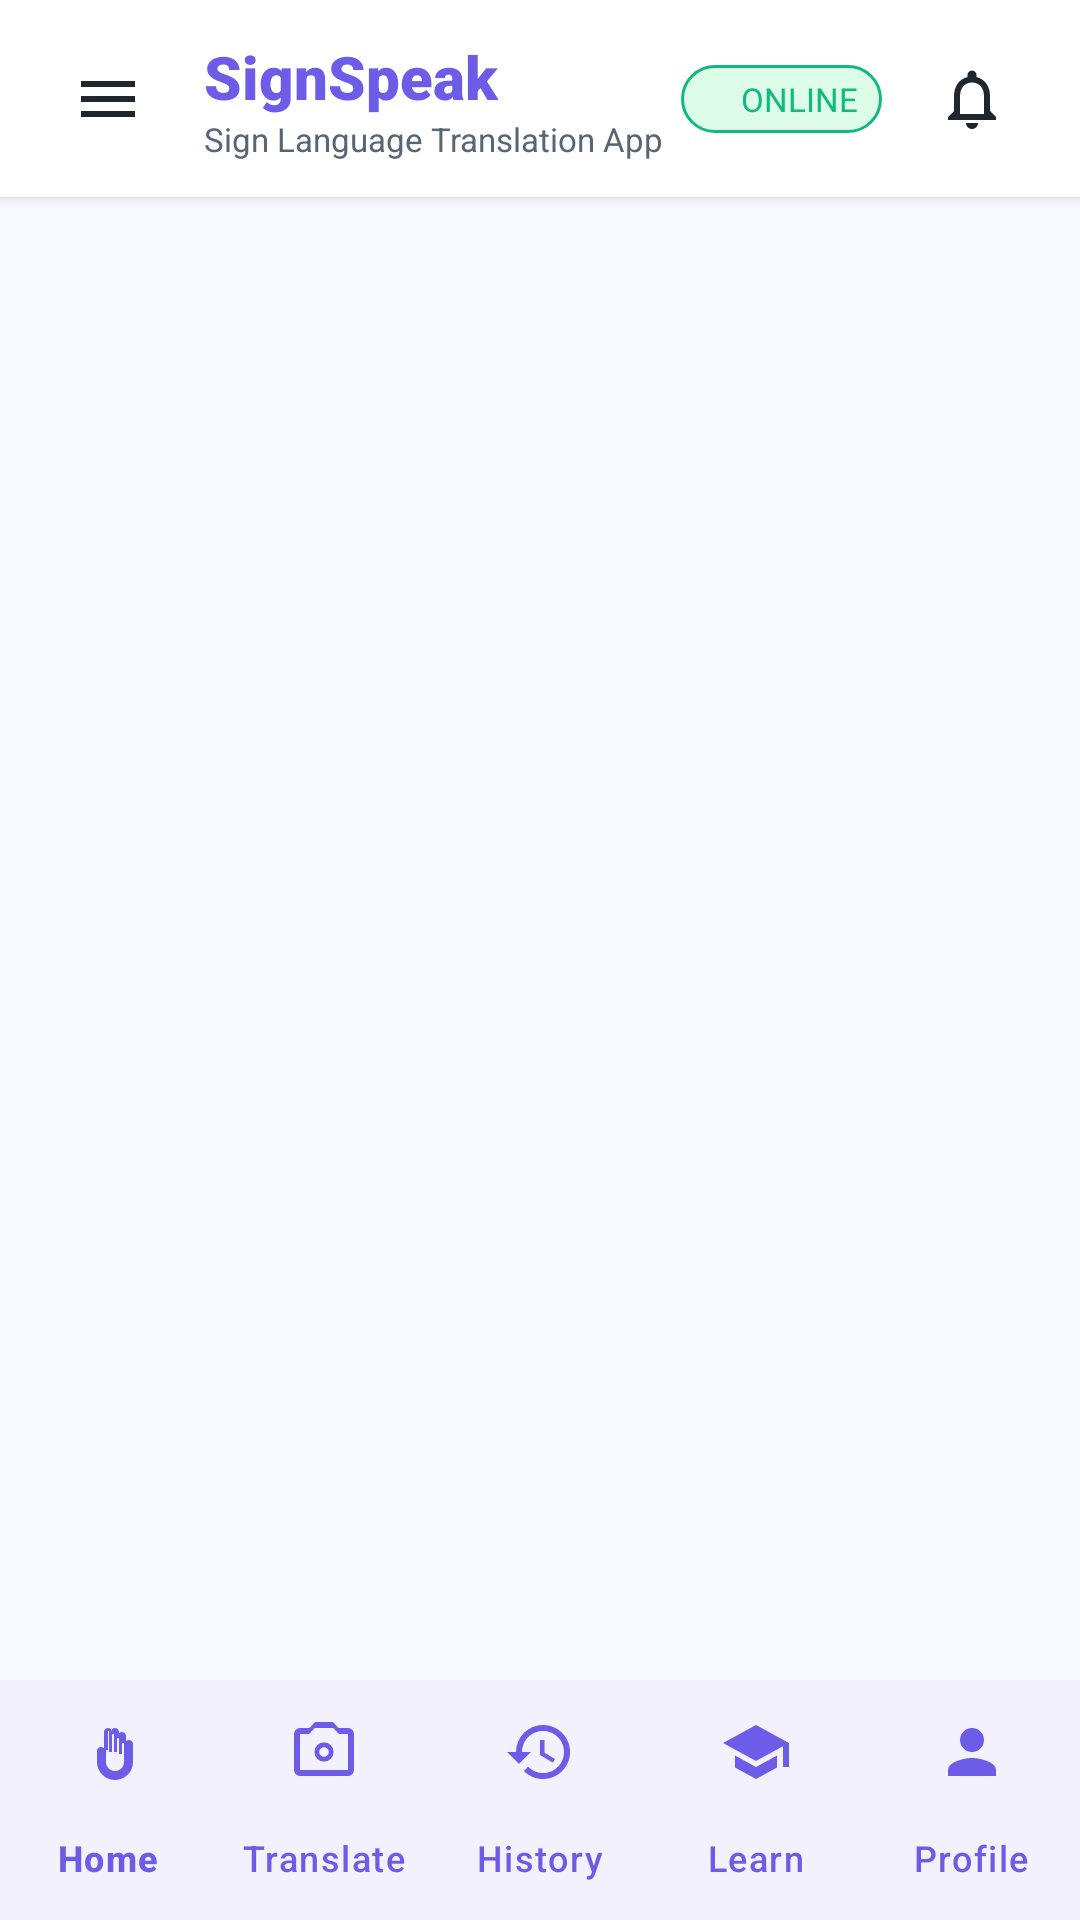

Icons on this 1080x1920 Android screen, each with its box as [x1=x1, y1=y1, x2=x2, y2=y2]:
Menu: [x1=81, y1=81, x2=135, y2=117]
Notifications: [x1=948, y1=70, x2=996, y2=129]
